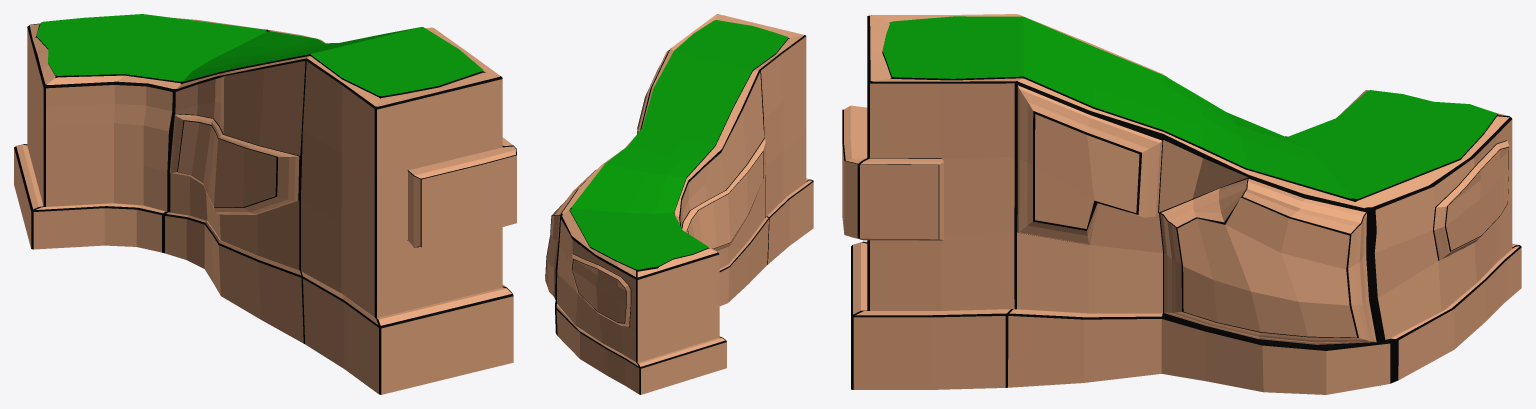
The model's file is CardboardPlatform18.fbx.
3 renders of one model, left to right at view 1: azimuth 30°, elevation 25°; view 2: azimuth 150°, elevation 25°; view 3: azimuth 270°, elevation 25°, orthographic. The views are drawn at different scales.
Parts seen in each view (by area): view 1: Cube.035; view 2: Cube.035; view 3: Cube.035.
Part boxes in pixels (x1,y1,x2,y2): Cube.035: (14, 14, 516, 394); Cube.035: (545, 14, 813, 394); Cube.035: (842, 14, 1521, 394).
Bounding box in the file's own units: 2388 × 2368 × 4754.
